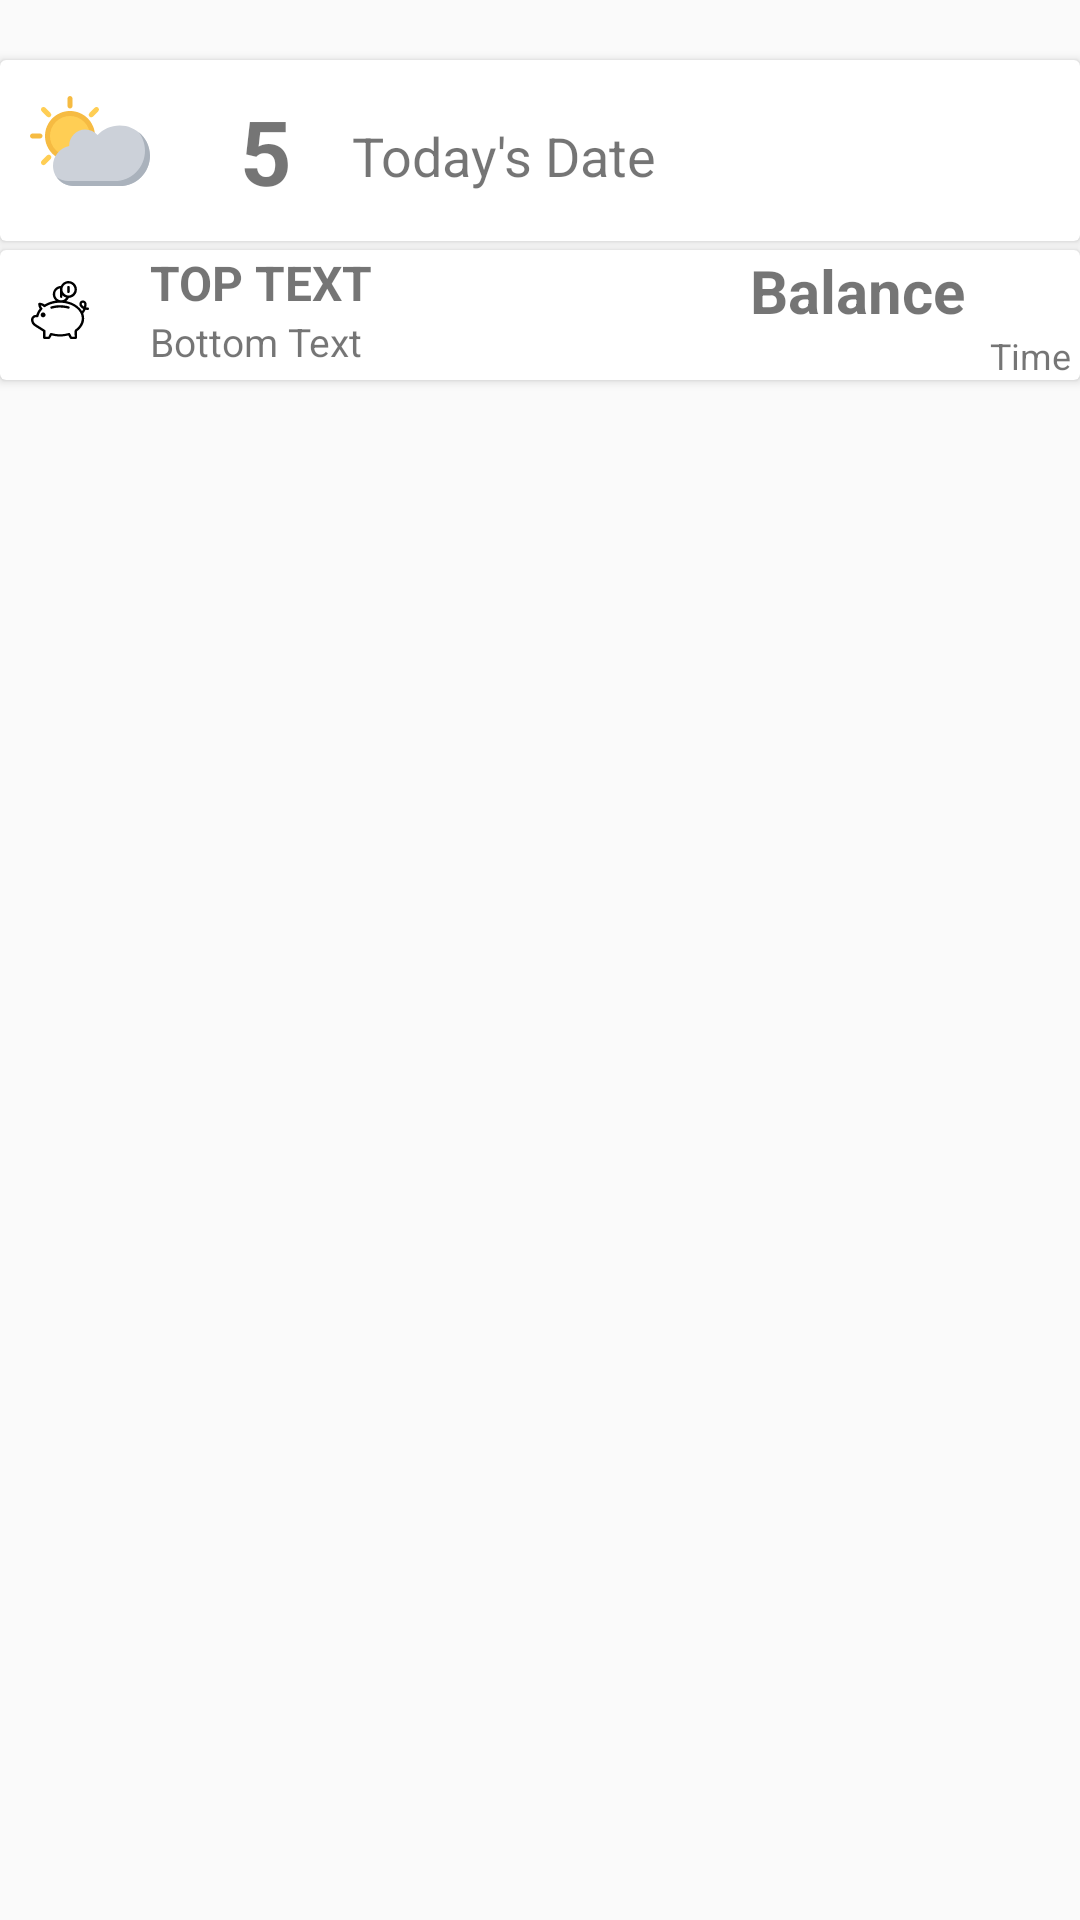

Point at icon controls on the screen. Image size 1080 × 1920, points as (x,y).
piggy bank: (60,310)
